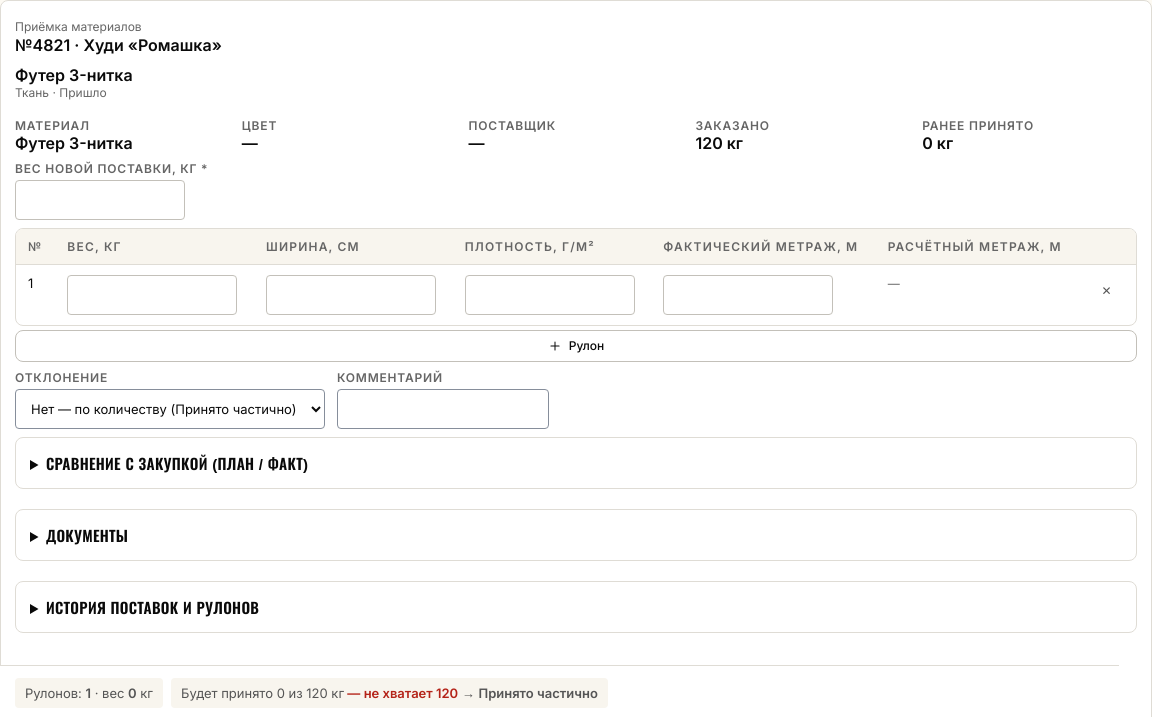
приёмка: статус выводится из чисел › недобор плана — «Принято частично», а не «полностью»
Step 1. Type "60" into the number field labelled "Вес новой поставки, кг *" → (100, 200), box [15,180,185,220]
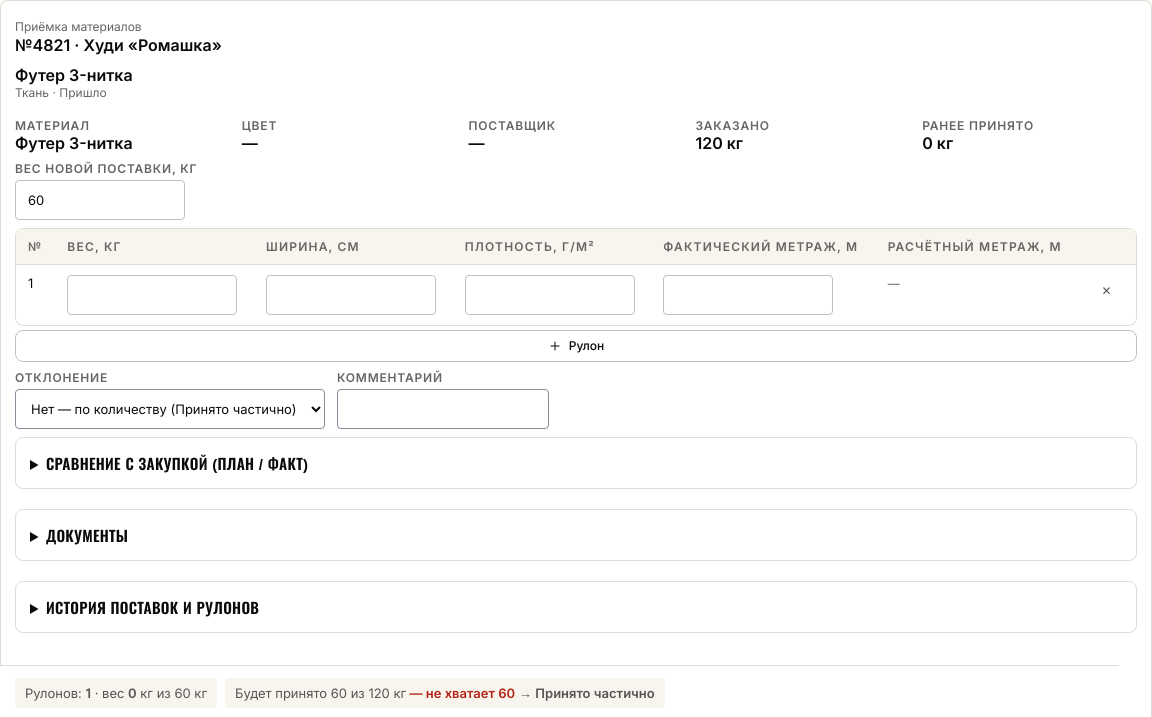
Now the text "Будет принято" reads "Будет принято 60 из 120 кг — не хватает 60 → Принято частично", box [225,678,665,708]
